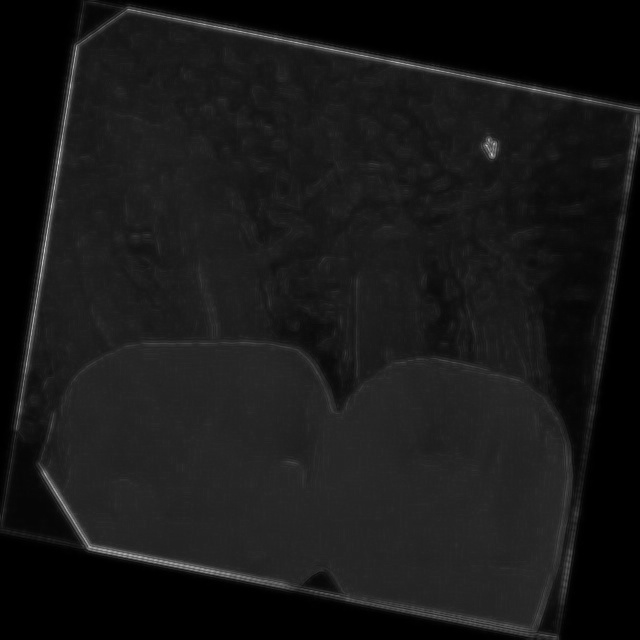Class 2- incomplete endodontic treatment: (1, 127, 375, 587), (288, 189, 619, 636)
